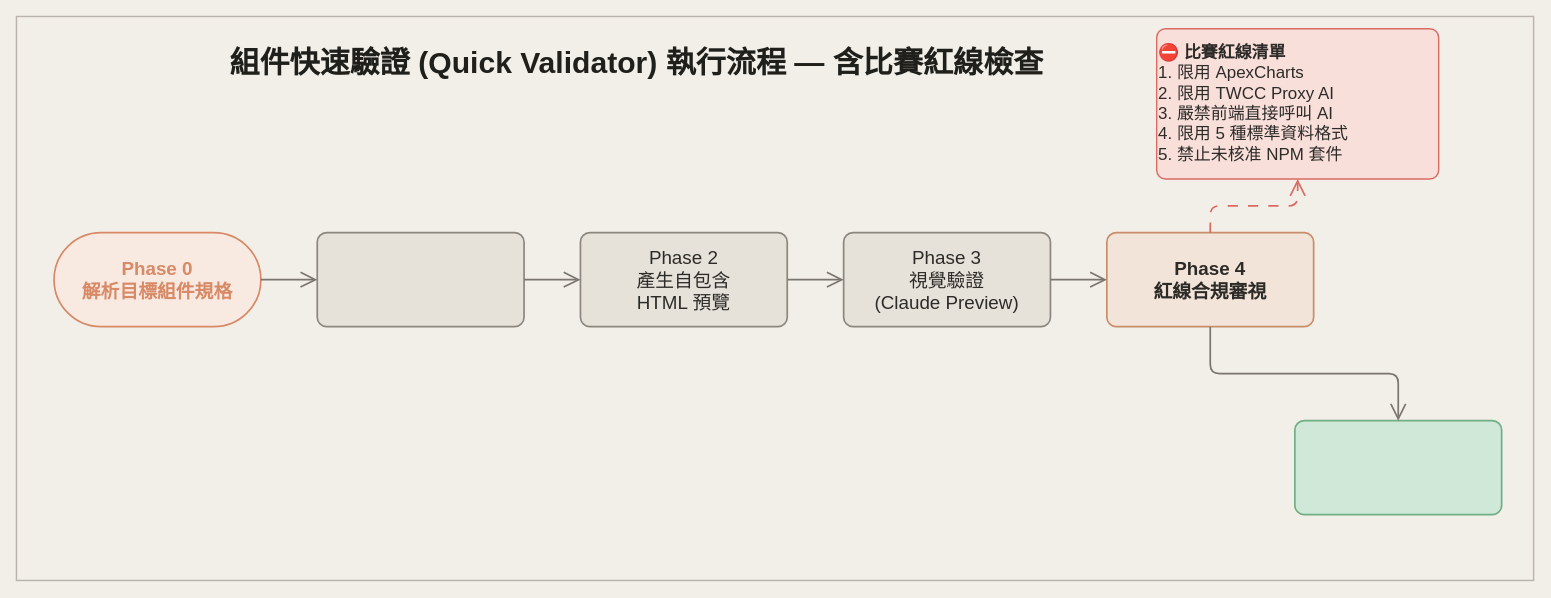
The diagram is 1551 pixels wide and 598 high, and some of its shapes have lost their labels. The shapes that lost their labels are listed below. From the top down, each one's centre as x and y in pixels, then its label:
At (x=420, y=279): "Phase 1 資料可達性驗證 (curl only)".
At (x=1398, y=467): "Ready for Harness 輸出報告".
